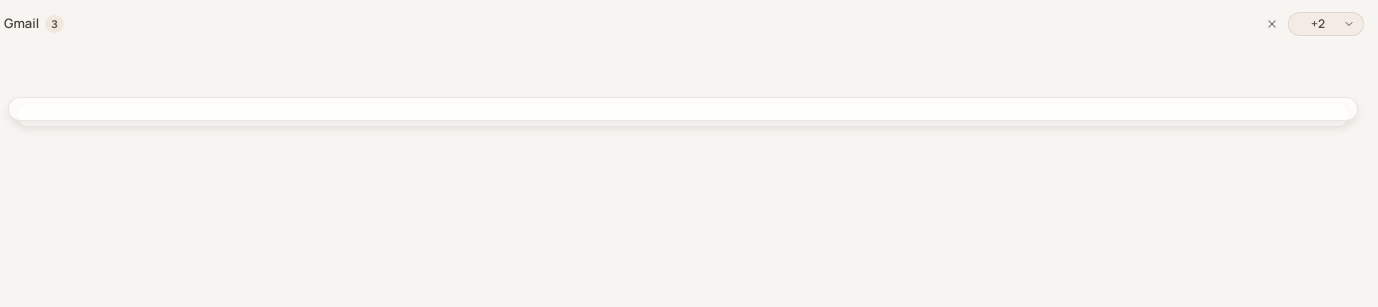
bildirim merkezi hareketi › grup: kapalıyken tabaklar görünür; açılınca arkadaki kartlar gelir, "+N" "Daralt" olur
The image size is (1378, 307).
Expected: the button "Konu b" is not shown
Expected: the number of buttons with class "notif-plate" is 2, [8,97,1358,121]; [16,103,1350,127]
Click the button named "Grubu genişlet": (1326, 24) [1288,12,1364,36]
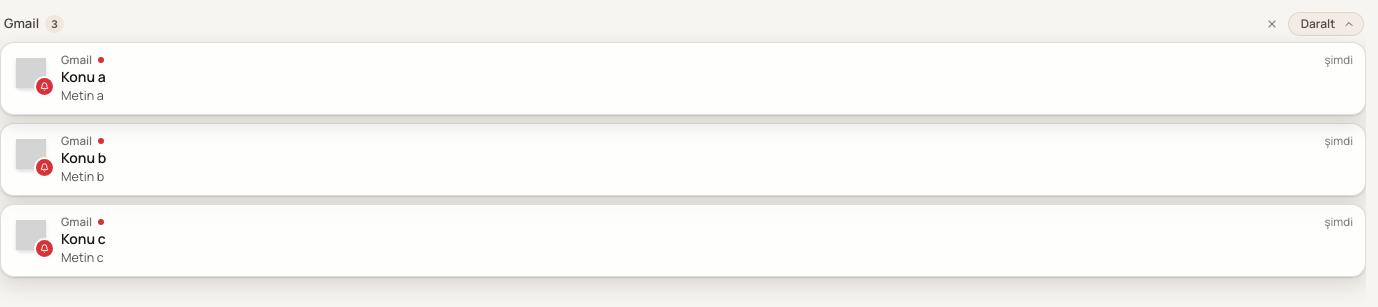
Now the button "Gmail şimdi Konu b Metin b" is shown, box [0,123,1366,196]
Now the button "Gmail şimdi Konu c Metin c" is shown, box [0,204,1366,277]
Now the button with aria-label "Grubu daralt" is expanded, box [1288,12,1364,36]
